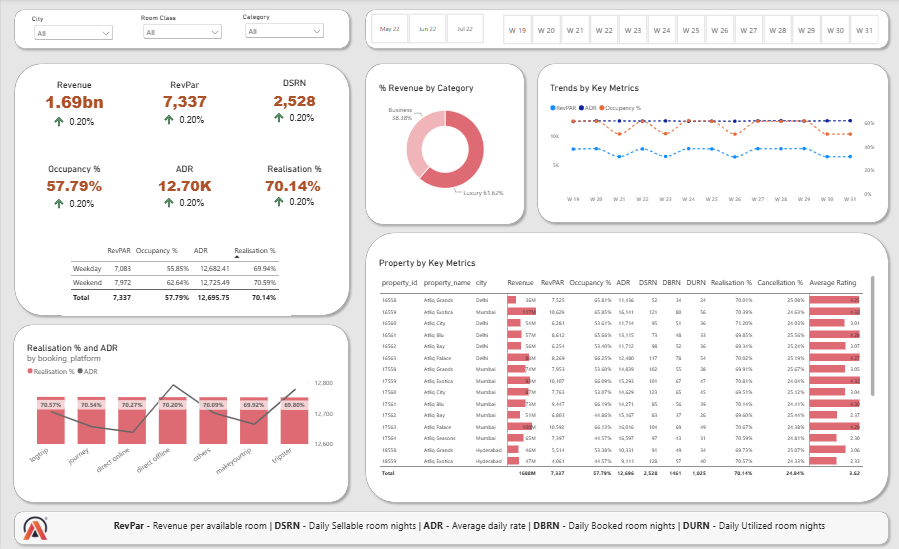

Layout of this report page (visuals, bound fields, positions):
{"tool":"powerbi","page":{"name":"Dashboard 2","canvas":[1800,1100],"ordinal":2},"visuals":[{"type":"shape","box":[720,458,1064,558],"z":0},{"type":"shape","box":[16,642,688,374],"z":1000},{"type":"shape","box":[1063.3,120,720,336.7],"z":2000},{"type":"shape","box":[720,120,336,340],"z":3000},{"type":"shape","box":[18,120,688,522],"z":4000},{"type":"shape","box":[720,12,1064,96],"z":5000},{"type":"shape","box":[18,12,688,96],"z":6000},{"type":"tableEx","title":".","fields":{"Values":["Key Metrics.Revenue WoW change %"]},"box":[80,183.3,136.7,86.7],"z":7000},{"type":"tableEx","title":"Property by Key Metrics","fields":{"Values":["dim_hotels.property_id","dim_hotels.property_name","dim_hotels.city","Key Metrics.Revenue","Key Metrics.RevPAR","Key Metrics.Occupancy %","Key Metrics.ADR","Key Metrics.DSRN","Key Metrics.DBRN","Key Metrics.DURN","Key Metrics.Realisation %","Key Metrics.Cancellation %"]},"box":[740,502,1024,472],"z":8000},{"type":"slicer","title":"City","fields":{"Values":["dim_hotels.city"]},"box":[61.7,31.7,166.7,58.3],"z":9000},{"type":"slicer","title":"Room Class","fields":{"Values":["dim_rooms.room_class"]},"box":[280,30,166.7,58.3],"z":10000},{"type":"slicer","title":"Month","fields":{"Values":["dim_date.mmm yy"]},"box":[720,28,264,62],"z":11000},{"type":"slicer","title":"Month","fields":{"Values":["dim_date.week no"]},"box":[984,30,790,62],"z":12000},{"type":"donutChart","title":"% Revenue by Category","fields":{"Category":["dim_hotels.category"],"Y":["Key Metrics.Revenue"]},"box":[740,151.7,296.7,278.3],"z":13000},{"type":"cardVisual","title":"Revenue","fields":{"Data":["Key Metrics.Revenue"]},"box":[70,160,153.3,65],"z":14000},{"type":"tableEx","title":".","fields":{"Values":["Key Metrics.Revenue WoW change %"]},"box":[300,180,136.7,88.3],"z":15000},{"type":"cardVisual","title":"RevPar","fields":{"Data":["Key Metrics.RevPAR"]},"box":[290,159.2,155,66.7],"z":16000},{"type":"tableEx","title":".","fields":{"Values":["Key Metrics.Revenue WoW change %"]},"box":[520,176.7,136.7,88.3],"z":17000},{"type":"cardVisual","title":"DSRN","fields":{"Data":["Key Metrics.DSRN"]},"box":[511.7,156.7,150,68.3],"z":18000},{"type":"tableEx","title":".","fields":{"Values":["Key Metrics.Revenue WoW change %"]},"box":[80,348.3,136.7,88.3],"z":19000},{"type":"cardVisual","title":"Occupancy %","fields":{"Data":["Key Metrics.Occupancy %"]},"box":[70,328.3,153.3,65],"z":20000},{"type":"tableEx","title":".","fields":{"Values":["Key Metrics.Revenue WoW change %"]},"box":[300,346.7,136.7,86.7],"z":21000},{"type":"cardVisual","title":"ADR","fields":{"Data":["Key Metrics.ADR"]},"box":[292.5,328.3,150,65],"z":22000},{"type":"tableEx","title":".","fields":{"Values":["Key Metrics.Revenue WoW change %"]},"box":[520,343.3,136.7,88.3],"z":23000},{"type":"cardVisual","title":"Realisation %","fields":{"Data":["Key Metrics.Realisation %"]},"box":[511.7,328.3,150,65],"z":24000},{"type":"lineChart","title":"Trends by Key Metrics","fields":{"Category":["dim_date.mmm yy.Variation.Date Hierarchy.Month","dim_date.week no"],"Y":["Key Metrics.RevPAR","Key Metrics.ADR"],"Y2":["Key Metrics.Occupancy %"]},"box":[1082,152,682,278],"z":25000},{"type":"lineStackedColumnComboChart","fields":{"Category":["fact_bookings.booking_platform"],"Y":["Key Metrics.Realisation %"],"Y2":["Key Metrics.ADR"]},"box":[36,672,648,316],"z":26000},{"type":"tableEx","fields":{"Values":["dim_date.Day type","Key Metrics.RevPAR","Key Metrics.Occupancy %","Key Metrics.ADR","Key Metrics.Realisation %"]},"box":[122,474,458,160],"z":27000},{"type":"shape","box":[18,1016,1766,84],"z":28000},{"type":"image","box":[42,1034,54,48],"z":29000},{"type":"textbox","box":[116,1040,1642,39],"z":30000},{"type":"slicer","title":"Category","fields":{"Values":["dim_hotels.category"]},"box":[483.3,28.3,166.7,58.3],"z":31000}]}

Visuals, with their boxes in screenshot pixels (x1, y1, x2, y2), scaled from the page's 1800x1100 canvas onto the 899x549 screenshot:
shape: [360,229,891,507]
shape: [8,320,352,507]
shape: [531,60,891,228]
shape: [360,60,527,230]
shape: [9,60,353,320]
shape: [360,6,891,54]
shape: [9,6,353,54]
"." tableEx: [40,91,108,135]
"Property by Key Metrics" tableEx: [370,251,881,486]
"City" slicer: [31,16,114,45]
"Room Class" slicer: [140,15,223,44]
"Month" slicer: [360,14,491,45]
"Month" slicer: [491,15,886,46]
"% Revenue by Category" donutChart: [370,76,518,215]
"Revenue" cardVisual: [35,80,112,112]
"." tableEx: [150,90,218,134]
"RevPar" cardVisual: [145,79,222,113]
"." tableEx: [260,88,328,132]
"DSRN" cardVisual: [256,78,330,112]
"." tableEx: [40,174,108,218]
"Occupancy %" cardVisual: [35,164,112,196]
"." tableEx: [150,173,218,216]
"ADR" cardVisual: [146,164,221,196]
"." tableEx: [260,171,328,215]
"Realisation %" cardVisual: [256,164,330,196]
"Trends by Key Metrics" lineChart: [540,76,881,215]
lineStackedColumnComboChart - fact_bookings.booking_platform x Key Metrics.Realisation %: [18,335,342,493]
tableEx - dim_date.Day type x Key Metrics.RevPAR: [61,237,290,316]
shape: [9,507,891,548]
image: [21,516,48,540]
textbox: [58,519,878,539]
"Category" slicer: [241,14,325,43]
